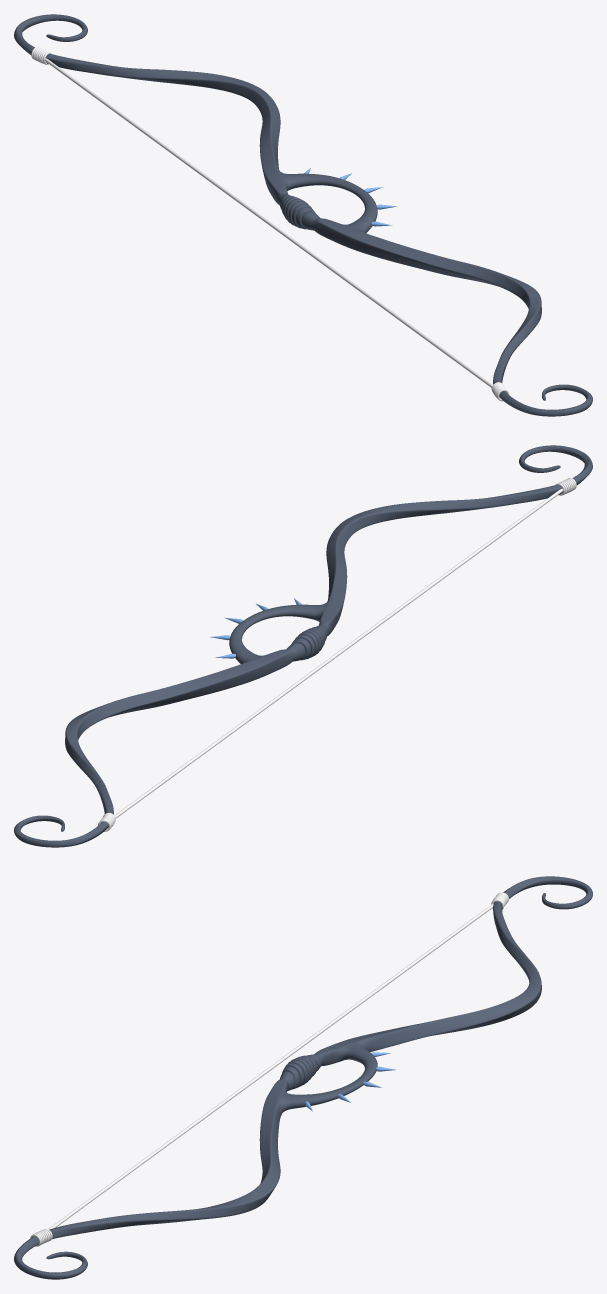
Rendered from Nofifit.fbx.
3 views of the same model, one above another, from view 1: azimuth 30°, elevation 25°; view 2: azimuth 150°, elevation 25°; view 3: azimuth 330°, elevation 25° (orthographic).
Parts seen in each view (by area): view 1: pCube4, pCylinder1; view 2: pCube4, pCylinder1; view 3: pCube4, pCylinder1.
Part boxes in pixels (x1=…): pCube4: x1=14, y1=14, x2=592, y2=416; pCylinder1: x1=44, y1=58, x2=492, y2=387; pCube4: x1=14, y1=445, x2=592, y2=847; pCylinder1: x1=114, y1=488, x2=563, y2=818; pCube4: x1=14, y1=876, x2=592, y2=1279; pCylinder1: x1=48, y1=903, x2=493, y2=1229.
Bounding box in the file's own units: 3.38 × 0.5891 × 23.32.
